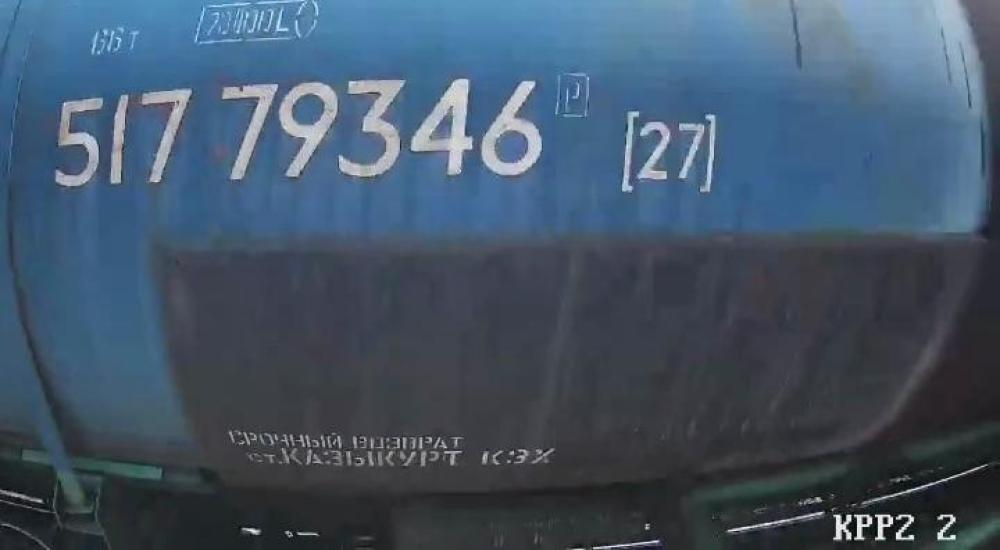Wagon-number: (50, 72, 547, 199)
